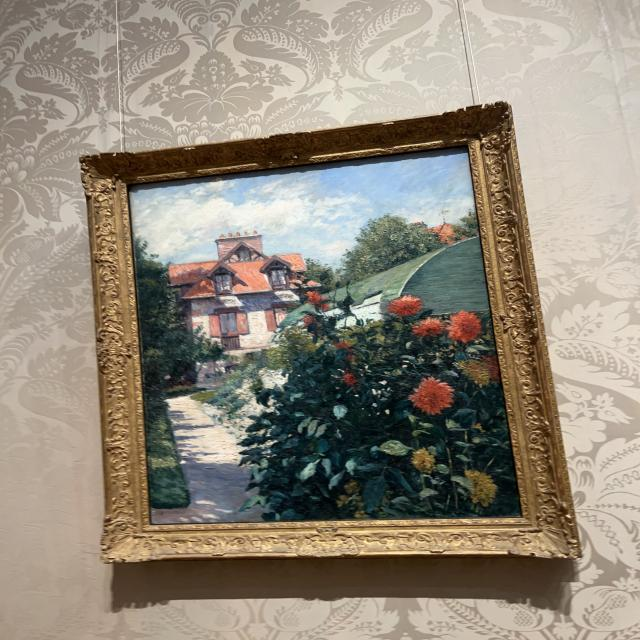summer: (134, 152, 517, 521)
